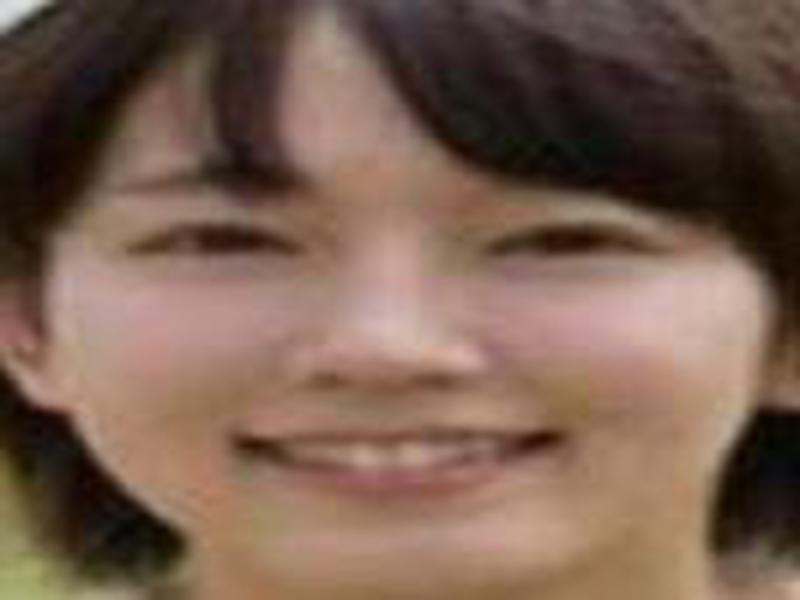without_mask: (40, 104, 748, 587)
